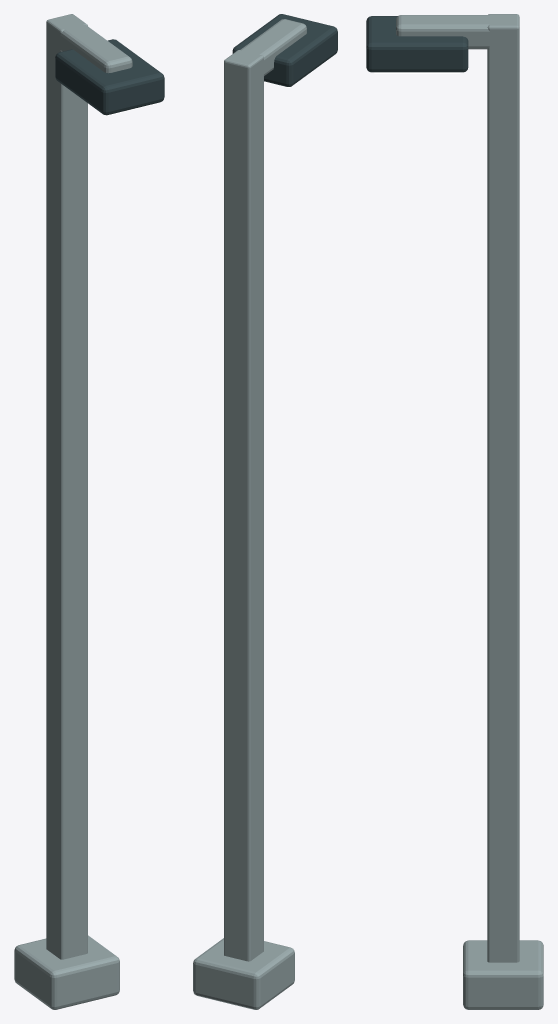
The model's file is lamp.glb.
The picture shows the model from 3 angles, left to right: view 1: azimuth 30°, elevation 25°; view 2: azimuth 150°, elevation 25°; view 3: azimuth 270°, elevation 25°; orthographic projection. The views are drawn at different scales.
Parts seen in each view (by area): view 1: pole, base, luminaire, arm; view 2: pole, base, luminaire, arm; view 3: pole, base, luminaire, arm.
Part boxes in pixels (left/top/right/bottom): pole: left=46, top=14, right=87, bottom=959; base: left=14, top=935, right=119, bottom=1009; luminaire: left=55, top=39, right=164, bottom=115; arm: left=48, top=16, right=132, bottom=73; pole: left=224, top=50, right=263, bottom=961; base: left=193, top=938, right=294, bottom=1009; luminaire: left=232, top=14, right=337, bottom=86; arm: left=227, top=19, right=306, bottom=83; pole: left=487, top=14, right=519, bottom=962; base: left=463, top=940, right=543, bottom=1009; luminaire: left=366, top=16, right=468, bottom=72; arm: left=396, top=15, right=513, bottom=49.
Size of the model in its own units: 0.3 by 4 by 0.66.
